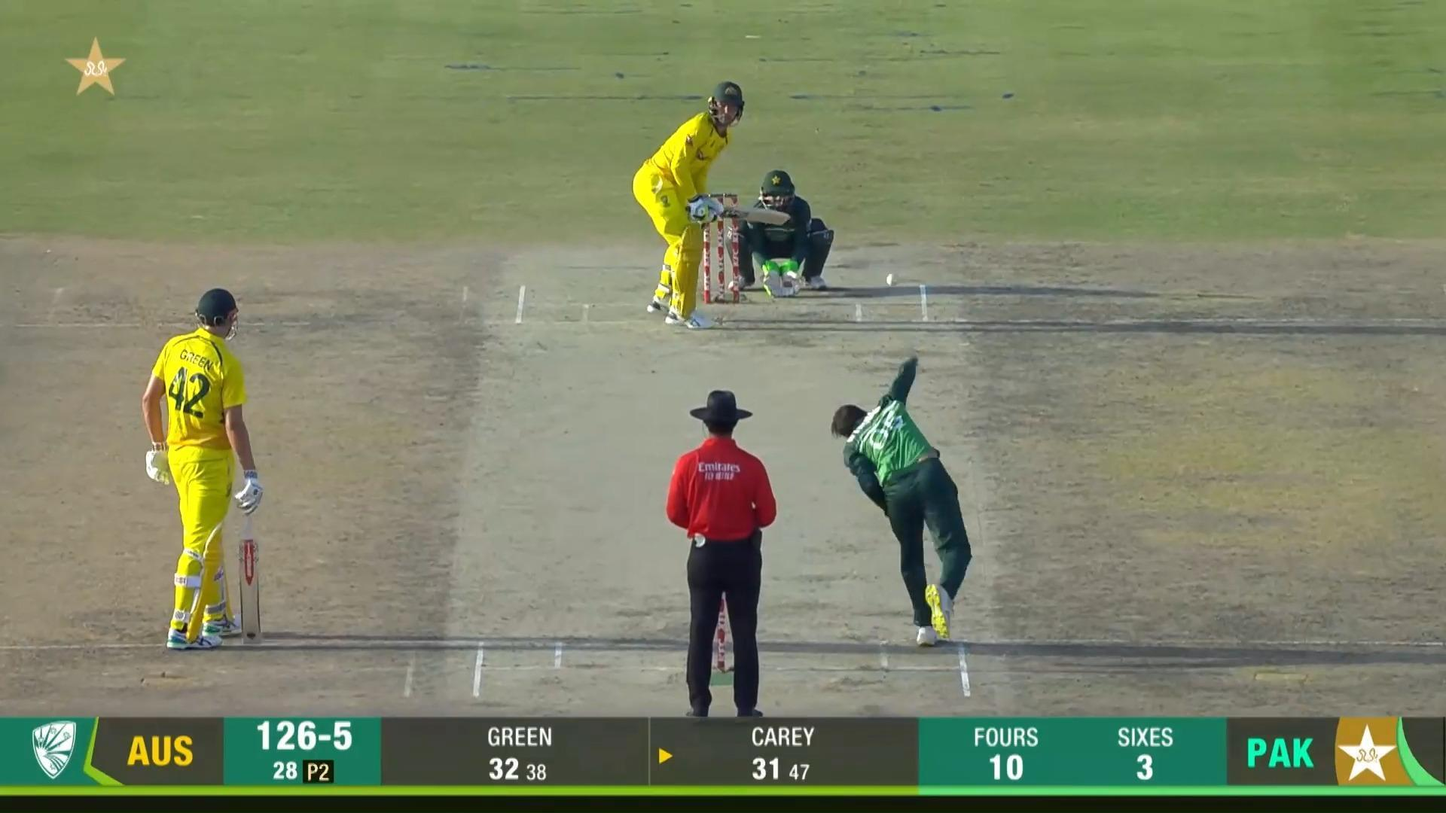BM 1: (631, 81, 792, 332)
BO: (830, 352, 974, 647)
